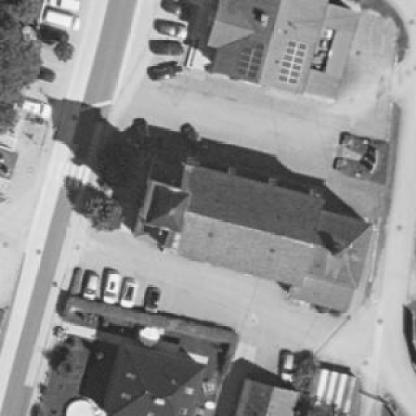solar-pv-panel: (279, 42, 306, 85), (237, 43, 265, 78)
